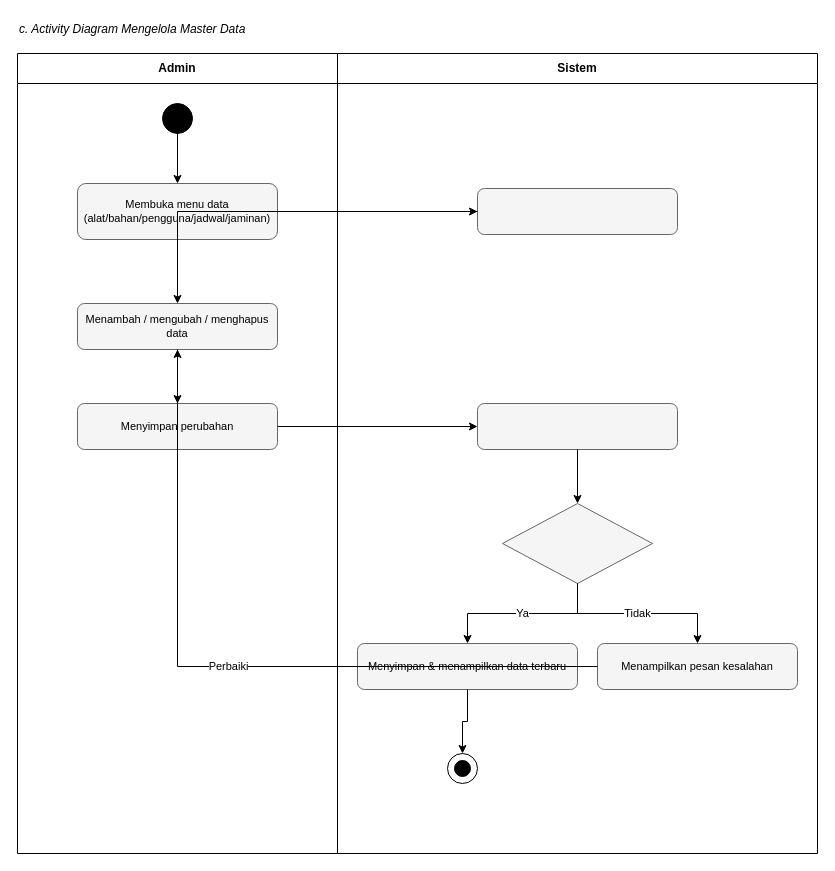
The diagram is 835 pixels wide and 871 high, and some of its shapes have lost their labels. Each missing label, with the centre of its shape:
"Data valid?" goes at (577,543).
"Memeriksa isian data" goes at (577,426).
"Menampilkan daftar data" goes at (577,211).
